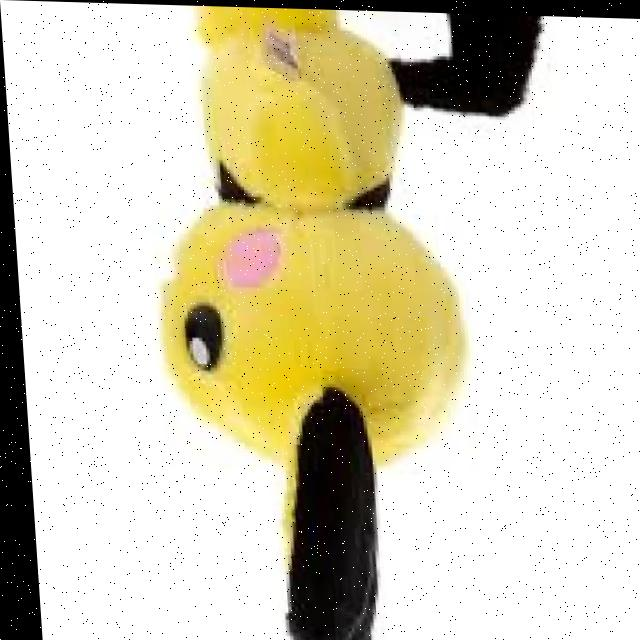pichu: (104, 2, 624, 640)
